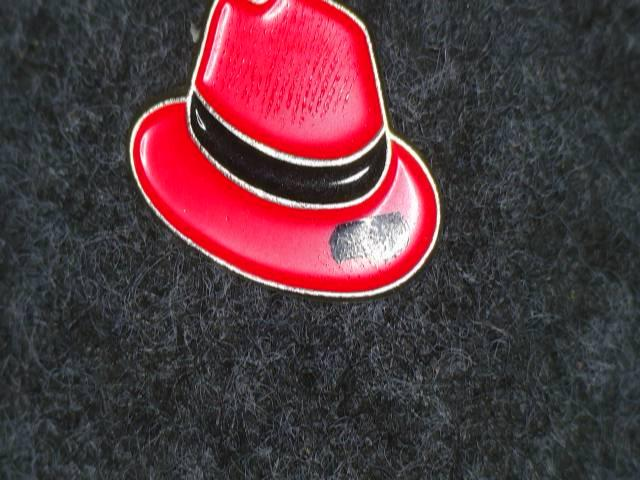Red-Hat: (84, 0, 473, 333)
Scratch: (320, 204, 436, 281)
